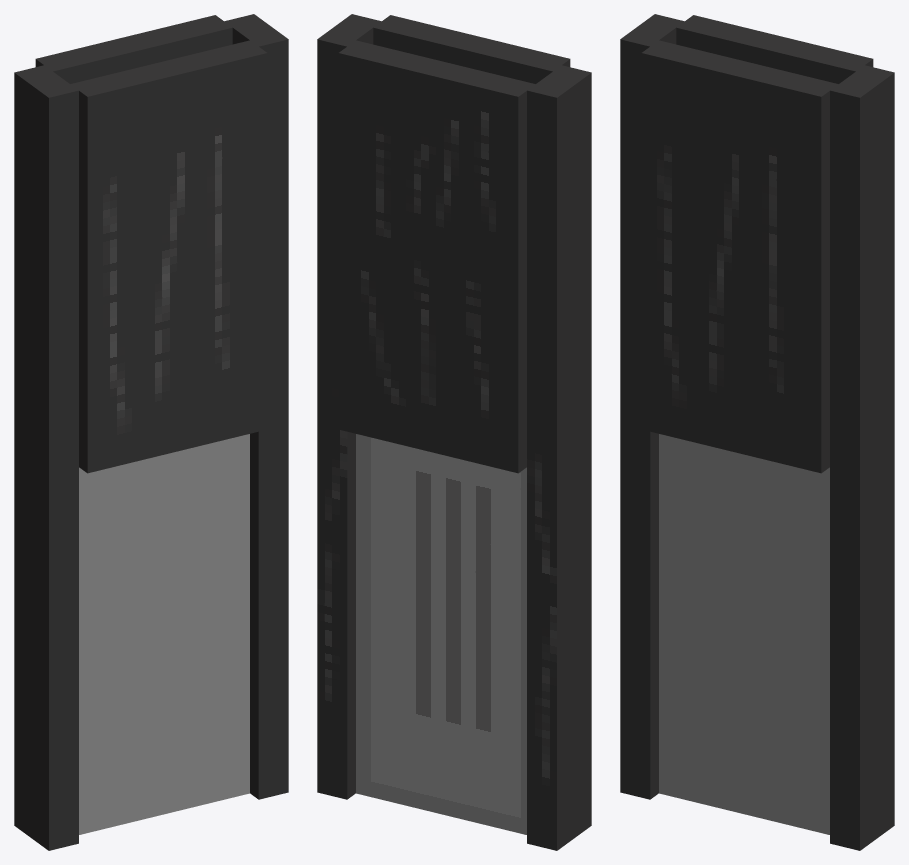
The model's file is slidedoor.gltf.
3 renders of one model, left to right at view 1: azimuth 30°, elevation 25°; view 2: azimuth 150°, elevation 25°; view 3: azimuth 330°, elevation 25°, orthographic.
Visible parts, largest first — view 1: cube (×5); view 2: cube (×5); view 3: cube (×5).
Boxes of the visible parts, x1,y1,x2,y2 form: cube (×5): (14, 14, 288, 850); cube (×5): (317, 14, 591, 850); cube (×5): (620, 14, 894, 850).
Size of the model in its own units: 1 by 3 by 0.375.
1 material, 1 textured.
